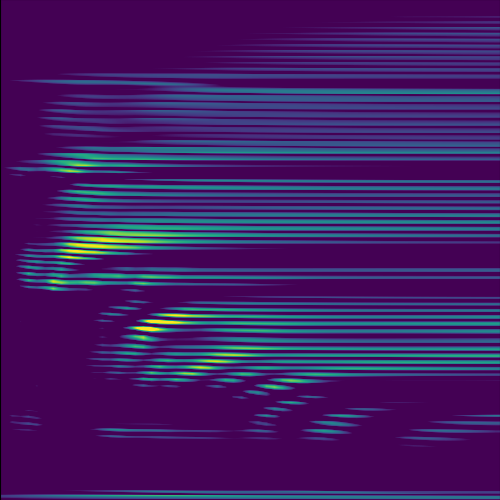semblance: (55, 222, 190, 263), (127, 304, 223, 344), (173, 345, 260, 379), (52, 144, 112, 179), (254, 369, 314, 395)
